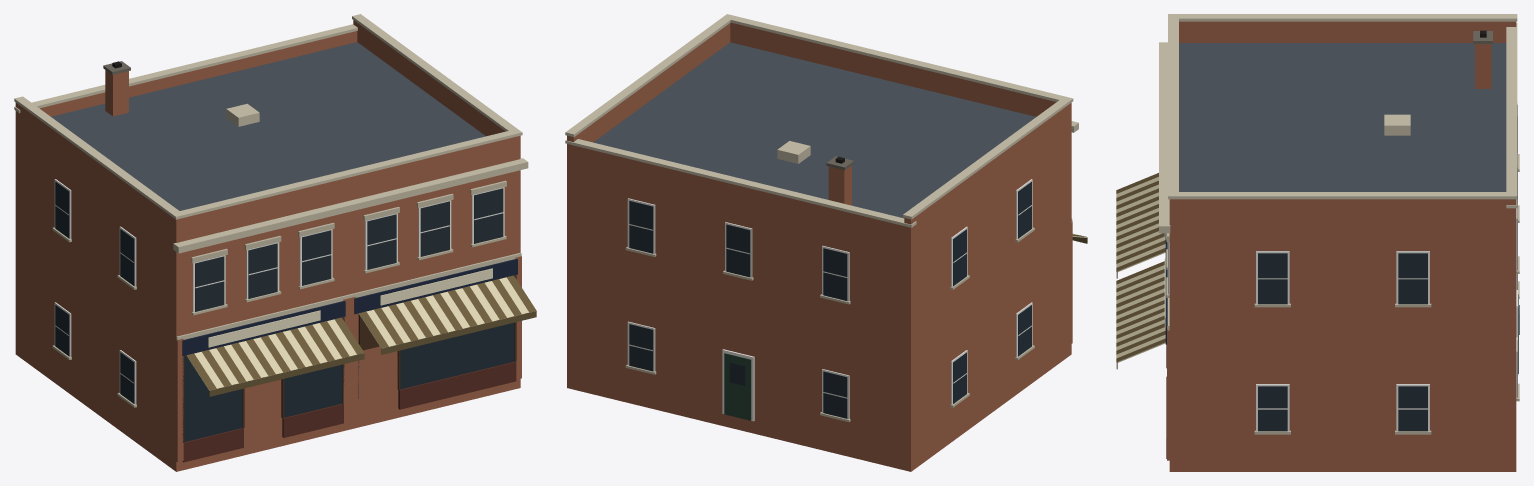
File: one-story-brick-store-0001.glb
3 renders of one model, left to right at view 1: azimuth 30°, elevation 25°; view 2: azimuth 150°, elevation 25°; view 3: azimuth 270°, elevation 25°, orthographic. The views are drawn at different scales.
Parts seen in each view (by area): view 1: kit-one-story-brick-store-0001; view 2: kit-one-story-brick-store-0001; view 3: kit-one-story-brick-store-0001.
Boxes of the visible parts, left/top/right/bottom form: kit-one-story-brick-store-0001: left=14, top=14, right=536, bottom=471; kit-one-story-brick-store-0001: left=565, top=14, right=1087, bottom=471; kit-one-story-brick-store-0001: left=1116, top=14, right=1519, bottom=471.
Bounding box in the file's own units: 13.2 × 10.15 × 12.21.
